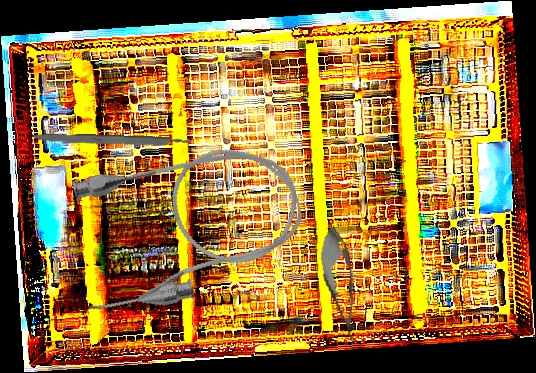Cannula: (58, 129, 315, 324)
Micro Scissor: (313, 221, 369, 353)
Scalpel Handle: (28, 132, 192, 149)
